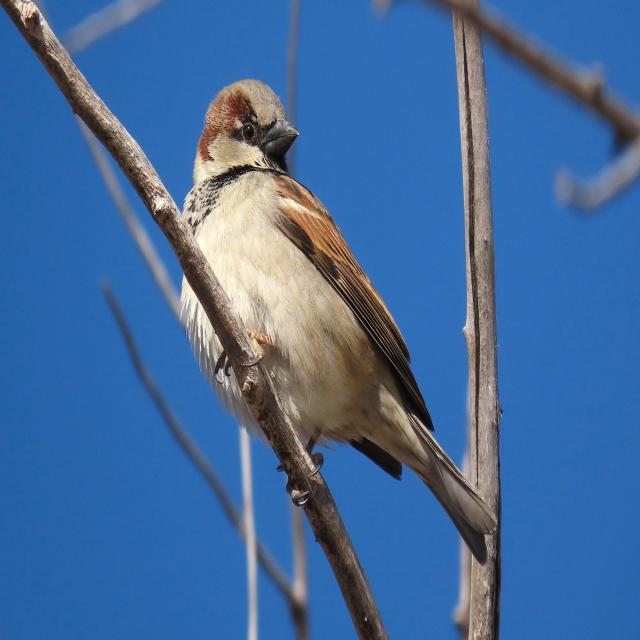sparrow: (183, 80, 496, 558)
